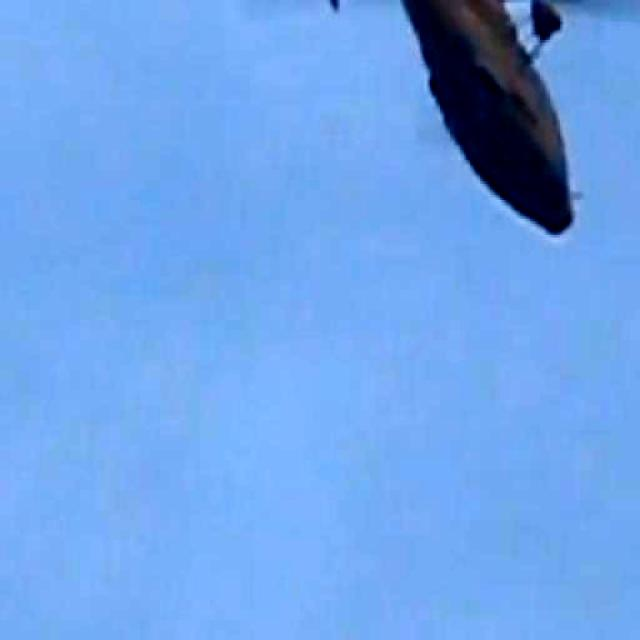drone: (278, 0, 640, 244)
